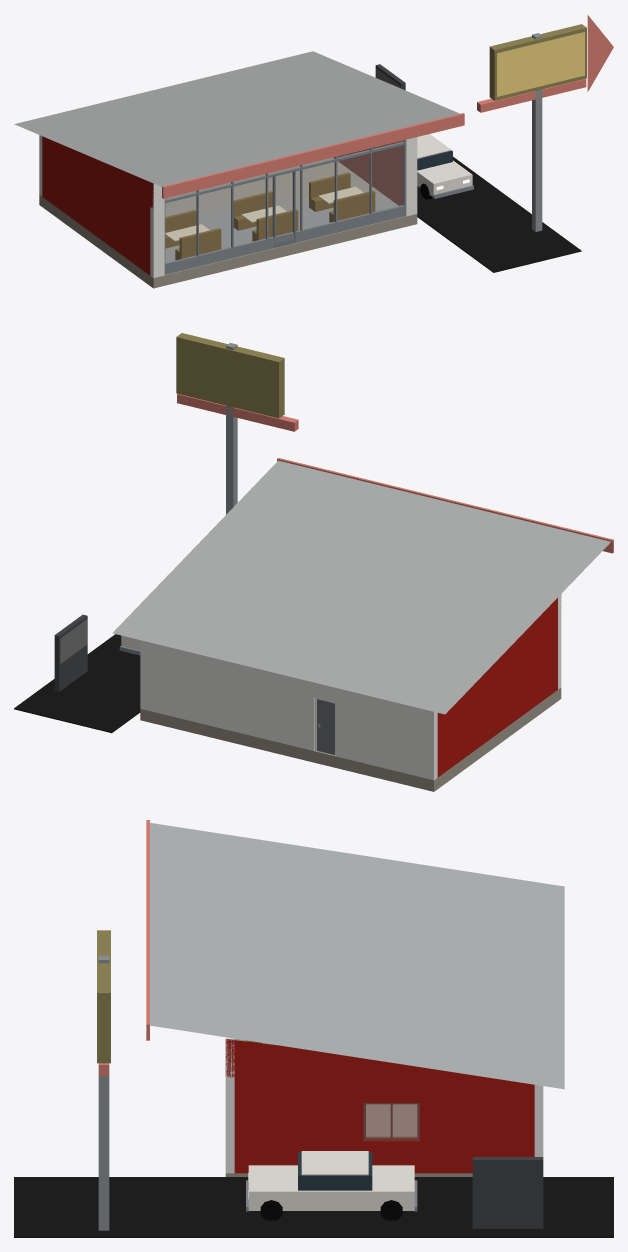
File: drivein.glb
3 views of the same model, one above another, from view 1: azimuth 30°, elevation 25°; view 2: azimuth 150°, elevation 25°; view 3: azimuth 270°, elevation 25° (orthographic). The views are drawn at different scales.
Parts seen in each view (by area): view 1: LOD0; view 2: LOD0; view 3: LOD0.
Boxes of the visible parts, x1,y1,x2,y2 form: LOD0: [14, 15, 613, 288]; LOD0: [14, 333, 613, 791]; LOD0: [14, 820, 613, 1237].
Size of what is drawn, in the model's own units: 19.65 by 9.3 by 17.
